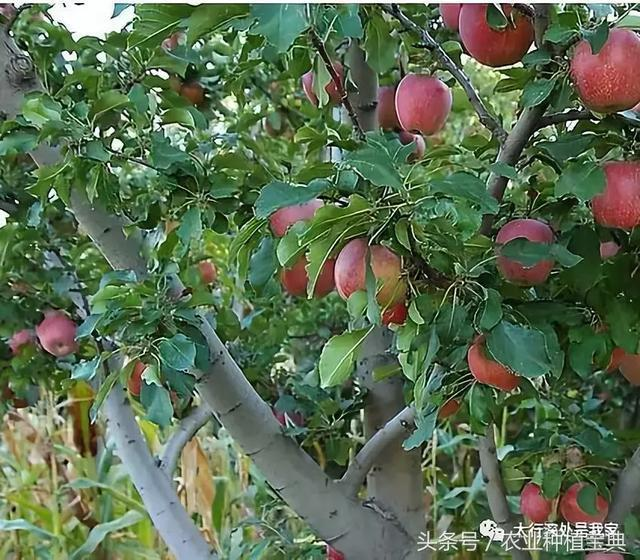apple: (570, 26, 639, 113), (454, 2, 535, 66), (335, 238, 407, 306), (494, 217, 556, 287), (394, 73, 454, 136), (590, 161, 640, 230), (468, 335, 529, 389), (282, 248, 336, 299), (269, 199, 323, 235), (562, 482, 610, 522), (39, 312, 75, 357), (520, 482, 551, 523), (178, 79, 206, 105), (199, 259, 217, 284)
